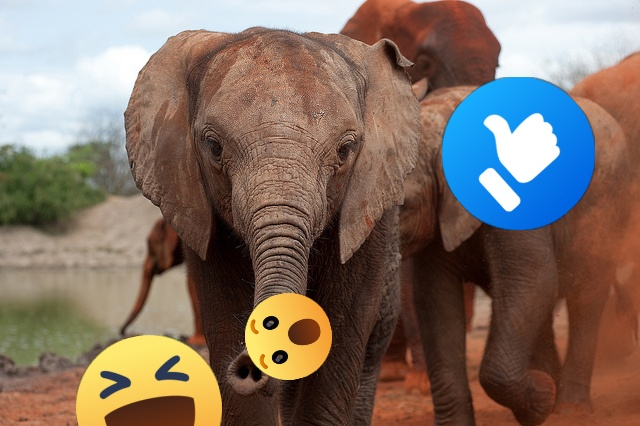haha: (76, 335, 222, 426)
like: (442, 77, 595, 230)
wow: (245, 293, 332, 380)
